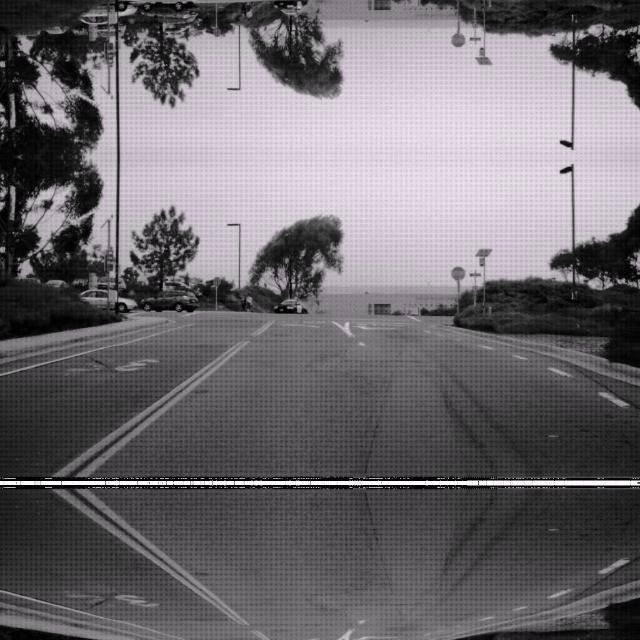stop: (450, 264, 464, 280), (450, 32, 464, 48)
